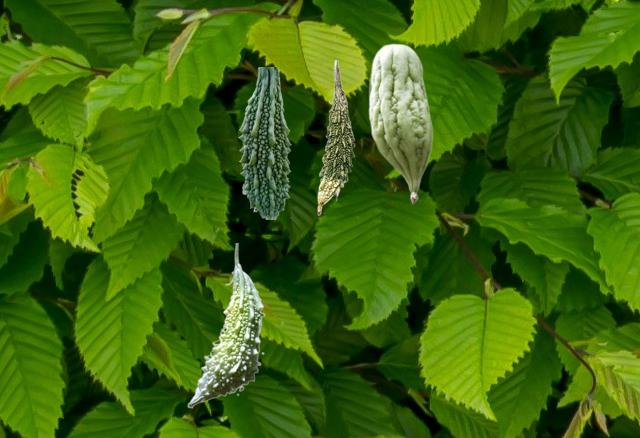ampalaya: (187, 243, 264, 407), (368, 43, 432, 203), (238, 67, 290, 218), (317, 60, 354, 215)
